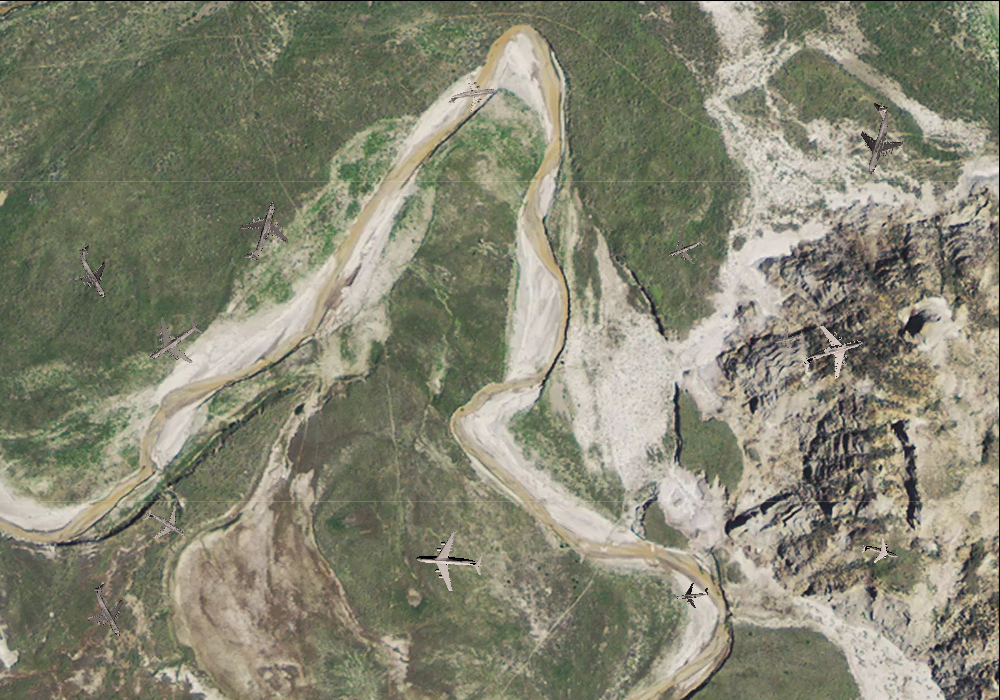plane: (838, 95, 915, 180), (133, 301, 214, 381), (792, 313, 873, 392), (225, 192, 299, 269), (73, 575, 142, 646), (413, 528, 485, 596), (59, 237, 126, 307), (134, 494, 195, 555), (444, 71, 498, 120), (661, 224, 709, 271), (857, 531, 902, 573), (771, 321, 807, 355), (674, 578, 710, 611)
